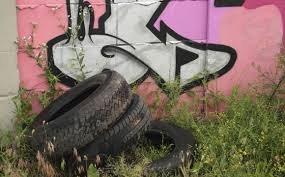tire: (26, 70, 131, 160), (133, 121, 195, 176)
